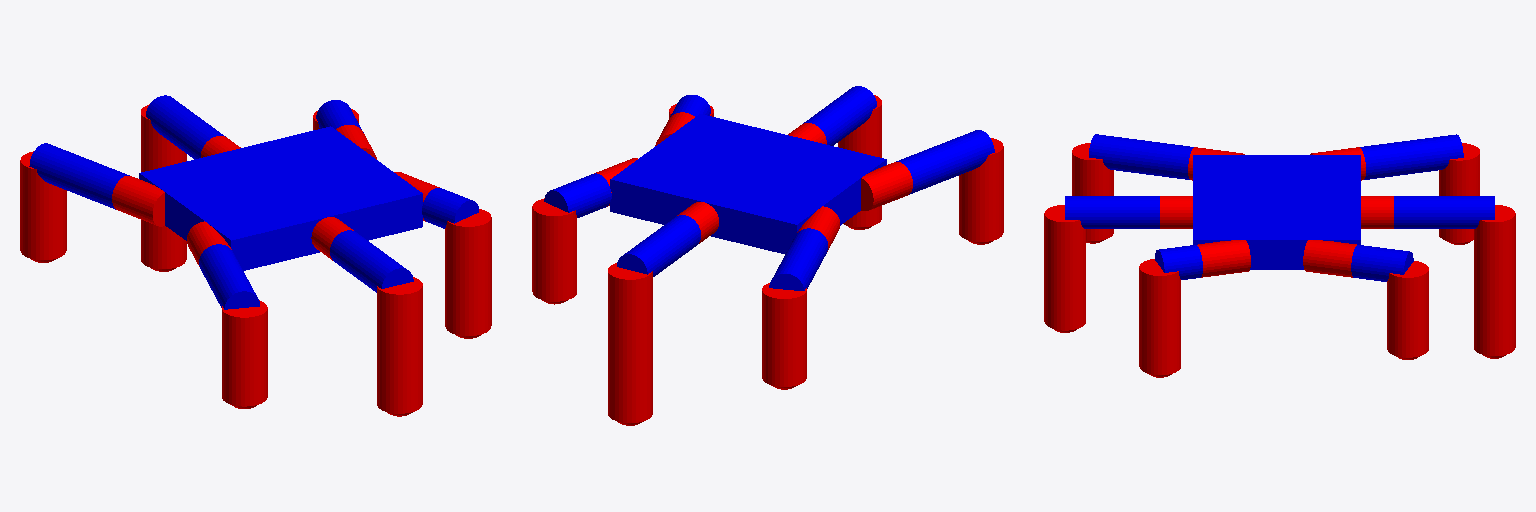
--- Facts derived from the render (not from the file) ---
The picture shows the robot from 3 angles, left to right: view 1: azimuth 30°, elevation 25°; view 2: azimuth 150°, elevation 25°; view 3: azimuth 270°, elevation 25°; orthographic projection.
Robot: pexod — 19 links, 18 joints (18 revolute); root link base_link; default pose: every joint at zero.
Links seen in each view (by area): view 1: base_link, leg_4_3, leg_3_3, leg_5_3, leg_0_3, leg_1_3, leg_0_2, leg_4_2, leg_1_2, leg_5_2, leg_0_1, leg_3_2 (+3 smaller); view 2: base_link, leg_1_3, leg_0_3, leg_2_3, leg_5_3, leg_5_2, leg_1_2, leg_0_2, leg_4_2, leg_2_2, leg_4_3, leg_5_1 (+3 smaller); view 3: base_link, leg_1_3, leg_4_3, leg_3_3, leg_2_3, leg_5_2, leg_1_2, leg_0_2, leg_4_2, leg_0_3, leg_5_3, leg_2_2 (+5 smaller).
Boxes of the visible links, <box> form: base_link: <box>139,126,422,270</box>; leg_4_3: <box>377,277,422,416</box>; leg_3_3: <box>445,209,491,338</box>; leg_5_3: <box>222,300,267,408</box>; leg_0_3: <box>20,151,66,262</box>; leg_1_3: <box>141,104,186,271</box>; leg_0_2: <box>29,143,129,209</box>; leg_4_2: <box>330,230,413,292</box>; leg_1_2: <box>146,95,225,159</box>; leg_5_2: <box>199,244,259,309</box>; leg_0_1: <box>112,176,164,226</box>; leg_3_2: <box>422,188,478,228</box>; base_link: <box>610,114,886,253</box>; leg_1_3: <box>608,263,652,425</box>; leg_0_3: <box>762,283,806,389</box>; leg_2_3: <box>532,198,576,304</box>; leg_5_3: <box>959,138,1003,244</box>; leg_5_2: <box>896,130,994,194</box>; leg_1_2: <box>617,215,700,276</box>; leg_0_2: <box>769,228,827,290</box>; leg_4_2: <box>803,86,876,145</box>; leg_2_2: <box>544,173,611,217</box>; leg_4_3: <box>838,95,881,229</box>; leg_5_1: <box>861,162,912,210</box>; base_link: <box>1193,155,1360,269</box>; leg_1_3: <box>1474,205,1515,358</box>; leg_4_3: <box>1044,205,1085,332</box>; leg_3_3: <box>1139,259,1180,377</box>; leg_2_3: <box>1387,261,1428,359</box>; leg_5_2: <box>1089,134,1193,179</box>; leg_1_2: <box>1394,196,1494,228</box>; leg_0_2: <box>1360,134,1463,179</box>; leg_4_2: <box>1065,196,1159,228</box>; leg_0_3: <box>1439,143,1479,244</box>; leg_5_3: <box>1072,143,1113,243</box>; leg_2_2: <box>1351,245,1413,281</box>.
Size in the robot's own frame: 0.3813 by 0.5618 by 0.2089 metres.
Geometry: primitives only (box / cylinder / sphere), no mesh files.

The robot description file, URDF, robot "pexod":
<?xml version="1.0" ?>
<!-- =================================================================================== -->
<!-- |    This document was autogenerated by xacro from pexod.xacro                    | -->
<!-- |    EDITING THIS FILE BY HAND IS NOT RECOMMENDED                                 | -->
<!-- =================================================================================== -->
<robot name="pexod" xmlns:xacro="http://www.ros.org/wiki/xacro">
  <!-- <xacro:include filename="$(find pexod_description)/urdf/pexod_control.xacro" /> -->
  <!-- MATERIALS -->
  <material name="Blue">
    <color rgba="0 0 1 1"/>
  </material>
  <material name="Red">
    <color rgba="1 0 0 1"/>
  </material>
  <material name="Green">
    <color rgba="0 1 0 1"/>
  </material>
  <material name="Yellow">
    <color rgba="1 1 0 1"/>
  </material>
  <material name="LightGrey">
    <color rgba="0.6 0.6 0.6 1.0"/>
  </material>
  <!-- END OF MATERIALS -->
  <!-- XACRO MACROS FOR VISUALS AND COLLISIONS -->
  <!-- END OF XACRO MACROS -->
  <!-- TORSO -->
  <link name="base_link">
    <visual>
      <origin rpy="0 0 0" xyz="0 0 0"/>
      <geometry>
        <box size="0.24 0.2 0.04"/>
      </geometry>
      <material name="Blue"/>
    </visual>
    <collision>
      <origin rpy="0 0 0" xyz="0 0 0"/>
      <geometry>
        <box size="0.24 0.2 0.04"/>
      </geometry>
    </collision>
    <inertial>
      <!-- CENTER OF MASS -->
      <origin rpy="0 0 0" xyz="0 0 0"/>
      <mass value="1.031"/>
      <!-- box inertia: 1/12*m(y^2+z^2), ... -->
      <inertia ixx="0.00357413333333" ixy="0" ixz="0" iyy="0.00508626666667" iyz="0" izz="0.00838546666667"/>
    </inertial>
  </link>
  <!-- XACRO MACRO FOR LEGS LINKS/JOINTS -->
  <!-- END OF LEG LINKS/JOINTS -->
  <joint name="body_leg_2" type="revolute">
    <parent link="base_link"/>
    <child link="leg_2_1"/>
    <limit effort="30.0" lower="-1.57079632679" upper="1.57079632679" velocity="7.0"/>
    <origin rpy="0 0 -0.3" xyz="0.11 0.04 0"/>
    <!-- <xacro:if value="${index == 5 or index == 4 or index == 3}">
                <axis xyz="0 0 1"/>
            </xacro:if>
            <xacro:if value="${index == 2 or index == 1 or index == 0}"> -->
    <axis xyz="0 0 1"/>
    <!-- </xacro:if> -->
    <dynamics damping="0.0"/>
  </joint>
  <link name="leg_2_1">
    <visual>
      <origin rpy="1.57079632679 0 0" xyz="0.01 0.03 0"/>
      <geometry>
        <cylinder length="0.06" radius="0.02"/>
      </geometry>
      <material name="Red"/>
    </visual>
    <collision>
      <origin rpy="1.57079632679 0 0" xyz="0.01 0.03 0"/>
      <geometry>
        <box size="0.02 0.02 0.06"/>
      </geometry>
    </collision>
    <inertial>
      <!-- CENTER OF MASS -->
      <origin rpy="1.57079632679 0 0" xyz="0.01 0.03 0"/>
      <mass value="0.02"/>
      <!-- box inertia: 1/12*m(y^2+z^2), ... -->
      <inertia ixx="6.66666666667e-06" ixy="0" ixz="0" iyy="6.66666666667e-06" iyz="0" izz="1.33333333333e-06"/>
    </inertial>
  </link>
  <joint name="leg_2_1_2" type="revolute">
    <parent link="leg_2_1"/>
    <child link="leg_2_2"/>
    <limit effort="30.0" lower="-0.78539816339" upper="0.78539816339" velocity="7.0"/>
    <origin rpy="0 0 0" xyz="0 0.06 0"/>
    <axis xyz="1 0 0"/>
    <dynamics damping="0.0"/>
  </joint>
  <link name="leg_2_2">
    <visual>
      <origin rpy="1.57079632679 0 0" xyz="0.01 0.0327377327444 0"/>
      <geometry>
        <cylinder length="0.0654754654888" radius="0.02"/>
      </geometry>
      <material name="Blue"/>
    </visual>
    <collision>
      <origin rpy="1.57079632679 0 0" xyz="0.01 0.0327377327444 0"/>
      <geometry>
        <box size="0.02 0.02 0.0654754654888"/>
      </geometry>
    </collision>
    <inertial>
      <!-- CENTER OF MASS -->
      <origin rpy="1.57079632679 0 0" xyz="0.01 0.0327377327444 0"/>
      <mass value="0.184"/>
      <!-- box inertia: 1/12*m(y^2+z^2), ... -->
      <inertia ixx="7.18678942416e-05" ixy="0" ixz="0" iyy="7.18678942416e-05" iyz="0" izz="1.22666666667e-05"/>
    </inertial>
  </link>
  <joint name="leg_2_2_3" type="revolute">
    <parent link="leg_2_2"/>
    <child link="leg_2_3"/>
    <limit effort="30.0" lower="-0.78539816339" upper="0.78539816339" velocity="7.0"/>
    <origin rpy="-1.57079632679 0 0" xyz="0 0.0654754654888 0"/>
    <axis xyz="-1 0 0"/>
    <dynamics damping="0.0"/>
  </joint>
  <link name="leg_2_3">
    <visual>
      <origin rpy="1.57079632679 0 0" xyz="0.0125 0.0525763449255 0"/>
      <geometry>
        <cylinder length="0.105152689851" radius="0.025"/>
      </geometry>
      <material name="Red"/>
    </visual>
    <visual>
      <origin rpy="1.57079632679 0 0" xyz="0.0125 0.092652689851 0"/>
      <geometry>
        <sphere radius="0.025"/>
      </geometry>
      <material name="Red"/>
    </visual>
    <collision>
      <origin rpy="1.57079632679 0 0" xyz="0.0125 0.0525763449255 0"/>
      <geometry>
        <box size="0.025 0.025 0.105152689851"/>
      </geometry>
    </collision>
    <collision>
      <origin rpy="1.57079632679 0 0" xyz="0.0125 0.092652689851 0"/>
      <geometry>
        <sphere radius="0.025"/>
      </geometry>
      <material name="Red"/>
    </collision>
    <inertial>
      <!-- CENTER OF MASS -->
      <origin rpy="1.57079632679 0 0" xyz="0.0125 0.0525763449255 0"/>
      <mass value="0.04"/>
      <!-- box inertia: 1/12*m(y^2+z^2), ... -->
      <inertia ixx="3.8940293943e-05" ixy="0" ixz="0" iyy="3.8940293943e-05" iyz="0" izz="4.16666666667e-06"/>
    </inertial>
  </link>
  <joint name="body_leg_3" type="revolute">
    <parent link="base_link"/>
    <child link="leg_3_1"/>
    <limit effort="30.0" lower="-1.57079632679" upper="1.57079632679" velocity="7.0"/>
    <origin rpy="0 0 0.3" xyz="0.11 -0.04 0"/>
    <!-- <xacro:if value="${index == 5 or index == 4 or index == 3}">
                <axis xyz="0 0 1"/>
            </xacro:if>
            <xacro:if value="${index == 2 or index == 1 or index == 0}"> -->
    <axis xyz="0 0 1"/>
    <!-- </xacro:if> -->
    <dynamics damping="0.0"/>
  </joint>
  <link name="leg_3_1">
    <visual>
      <origin rpy="1.57079632679 0 0" xyz="0.01 -0.03 0"/>
      <geometry>
        <cylinder length="0.06" radius="0.02"/>
      </geometry>
      <material name="Red"/>
    </visual>
    <collision>
      <origin rpy="1.57079632679 0 0" xyz="0.01 -0.03 0"/>
      <geometry>
        <box size="0.02 0.02 0.06"/>
      </geometry>
    </collision>
    <inertial>
      <!-- CENTER OF MASS -->
      <origin rpy="1.57079632679 0 0" xyz="0.01 -0.03 0"/>
      <mass value="0.02"/>
      <!-- box inertia: 1/12*m(y^2+z^2), ... -->
      <inertia ixx="6.66666666667e-06" ixy="0" ixz="0" iyy="6.66666666667e-06" iyz="0" izz="1.33333333333e-06"/>
    </inertial>
  </link>
  <joint name="leg_3_1_2" type="revolute">
    <parent link="leg_3_1"/>
    <child link="leg_3_2"/>
    <limit effort="30.0" lower="-0.78539816339" upper="0.78539816339" velocity="7.0"/>
    <origin rpy="0 0 0" xyz="0 -0.06 0"/>
    <axis xyz="-1 0 0"/>
    <dynamics damping="0.0"/>
  </joint>
  <link name="leg_3_2">
    <visual>
      <origin rpy="1.57079632679 0 0" xyz="0.01 -0.0239038808822 0"/>
      <geometry>
        <cylinder length="0.0478077617643" radius="0.02"/>
      </geometry>
      <material name="Blue"/>
    </visual>
    <collision>
      <origin rpy="1.57079632679 0 0" xyz="0.01 -0.0239038808822 0"/>
      <geometry>
        <box size="0.02 0.02 0.0478077617643"/>
      </geometry>
    </collision>
    <inertial>
      <!-- CENTER OF MASS -->
      <origin rpy="1.57079632679 0 0" xyz="0.01 -0.0239038808822 0"/>
      <mass value="0.184"/>
      <!-- box inertia: 1/12*m(y^2+z^2), ... -->
      <inertia ixx="4.1178925302e-05" ixy="0" ixz="0" iyy="4.1178925302e-05" iyz="0" izz="1.22666666667e-05"/>
    </inertial>
  </link>
  <joint name="leg_3_2_3" type="revolute">
    <parent link="leg_3_2"/>
    <child link="leg_3_3"/>
    <limit effort="30.0" lower="-0.78539816339" upper="0.78539816339" velocity="7.0"/>
    <origin rpy="1.57079632679 0 0" xyz="0 -0.0478077617643 0"/>
    <axis xyz="1 0 0"/>
    <dynamics damping="0.0"/>
  </joint>
  <link name="leg_3_3">
    <visual>
      <origin rpy="1.57079632679 0 0" xyz="0.0125 -0.0653417017405 0"/>
      <geometry>
        <cylinder length="0.130683403481" radius="0.025"/>
      </geometry>
      <material name="Red"/>
    </visual>
    <visual>
      <origin rpy="1.57079632679 0 0" xyz="0.0125 -0.118183403481 0"/>
      <geometry>
        <sphere radius="0.025"/>
      </geometry>
      <material name="Red"/>
    </visual>
    <collision>
      <origin rpy="1.57079632679 0 0" xyz="0.0125 -0.0653417017405 0"/>
      <geometry>
        <box size="0.025 0.025 0.130683403481"/>
      </geometry>
    </collision>
    <collision>
      <origin rpy="1.57079632679 0 0" xyz="0.0125 -0.118183403481 0"/>
      <geometry>
        <sphere radius="0.025"/>
      </geometry>
      <material name="Red"/>
    </collision>
    <inertial>
      <!-- CENTER OF MASS -->
      <origin rpy="1.57079632679 0 0" xyz="0.0125 -0.0653417017405 0"/>
      <mass value="0.04"/>
      <!-- box inertia: 1/12*m(y^2+z^2), ... -->
      <inertia ixx="5.90105064846e-05" ixy="0" ixz="0" iyy="5.90105064846e-05" iyz="0" izz="4.16666666667e-06"/>
    </inertial>
  </link>
  <joint name="body_leg_0" type="revolute">
    <parent link="base_link"/>
    <child link="leg_0_1"/>
    <limit effort="30.0" lower="-1.57079632679" upper="1.57079632679" velocity="7.0"/>
    <origin rpy="0 0 0.3" xyz="-0.13 0.04 0"/>
    <!-- <xacro:if value="${index == 5 or index == 4 or index == 3}">
                <axis xyz="0 0 1"/>
            </xacro:if>
            <xacro:if value="${index == 2 or index == 1 or index == 0}"> -->
    <axis xyz="0 0 1"/>
    <!-- </xacro:if> -->
    <dynamics damping="0.0"/>
  </joint>
  <link name="leg_0_1">
    <visual>
      <origin rpy="1.57079632679 0 0" xyz="0.01 0.03 0"/>
      <geometry>
        <cylinder length="0.06" radius="0.02"/>
      </geometry>
      <material name="Red"/>
    </visual>
    <collision>
      <origin rpy="1.57079632679 0 0" xyz="0.01 0.03 0"/>
      <geometry>
        <box size="0.02 0.02 0.06"/>
      </geometry>
    </collision>
    <inertial>
      <!-- CENTER OF MASS -->
      <origin rpy="1.57079632679 0 0" xyz="0.01 0.03 0"/>
      <mass value="0.02"/>
      <!-- box inertia: 1/12*m(y^2+z^2), ... -->
      <inertia ixx="6.66666666667e-06" ixy="0" ixz="0" iyy="6.66666666667e-06" iyz="0" izz="1.33333333333e-06"/>
    </inertial>
  </link>
  <joint name="leg_0_1_2" type="revolute">
    <parent link="leg_0_1"/>
    <child link="leg_0_2"/>
    <limit effort="30.0" lower="-0.78539816339" upper="0.78539816339" velocity="7.0"/>
    <origin rpy="0 0 0" xyz="0 0.06 0"/>
    <axis xyz="1 0 0"/>
    <dynamics damping="0.0"/>
  </joint>
  <link name="leg_0_2">
    <visual>
      <origin rpy="1.57079632679 0 0" xyz="0.01 0.060954150686 0"/>
      <geometry>
        <cylinder length="0.121908301372" radius="0.02"/>
      </geometry>
      <material name="Blue"/>
    </visual>
    <collision>
      <origin rpy="1.57079632679 0 0" xyz="0.01 0.060954150686 0"/>
      <geometry>
        <box size="0.02 0.02 0.121908301372"/>
      </geometry>
    </collision>
    <inertial>
      <!-- CENTER OF MASS -->
      <origin rpy="1.57079632679 0 0" xyz="0.01 0.060954150686 0"/>
      <mass value="0.184"/>
      <!-- box inertia: 1/12*m(y^2+z^2), ... -->
      <inertia ixx="0.000234011720466" ixy="0" ixz="0" iyy="0.000234011720466" iyz="0" izz="1.22666666667e-05"/>
    </inertial>
  </link>
  <joint name="leg_0_2_3" type="revolute">
    <parent link="leg_0_2"/>
    <child link="leg_0_3"/>
    <limit effort="30.0" lower="-0.78539816339" upper="0.78539816339" velocity="7.0"/>
    <origin rpy="-1.57079632679 0 0" xyz="0 0.121908301372 0"/>
    <axis xyz="-1 0 0"/>
    <dynamics damping="0.0"/>
  </joint>
  <link name="leg_0_3">
    <visual>
      <origin rpy="1.57079632679 0 0" xyz="0.0125 0.0540612211445 0"/>
      <geometry>
        <cylinder length="0.108122442289" radius="0.025"/>
      </geometry>
      <material name="Red"/>
    </visual>
    <visual>
      <origin rpy="1.57079632679 0 0" xyz="0.0125 0.095622442289 0"/>
      <geometry>
        <sphere radius="0.025"/>
      </geometry>
      <material name="Red"/>
    </visual>
    <collision>
      <origin rpy="1.57079632679 0 0" xyz="0.0125 0.0540612211445 0"/>
      <geometry>
        <box size="0.025 0.025 0.108122442289"/>
      </geometry>
    </collision>
    <collision>
      <origin rpy="1.57079632679 0 0" xyz="0.0125 0.095622442289 0"/>
      <geometry>
        <sphere radius="0.025"/>
      </geometry>
      <material name="Red"/>
    </collision>
    <inertial>
      <!-- CENTER OF MASS -->
      <origin rpy="1.57079632679 0 0" xyz="0.0125 0.0540612211445 0"/>
      <mass value="0.04"/>
      <!-- box inertia: 1/12*m(y^2+z^2), ... -->
      <inertia ixx="4.10515417551e-05" ixy="0" ixz="0" iyy="4.10515417551e-05" iyz="0" izz="4.16666666667e-06"/>
    </inertial>
  </link>
  <joint name="body_leg_5" type="revolute">
    <parent link="base_link"/>
    <child link="leg_5_1"/>
    <limit effort="30.0" lower="-1.57079632679" upper="1.57079632679" velocity="7.0"/>
    <origin rpy="0 0 -0.3" xyz="-0.13 -0.04 0"/>
    <!-- <xacro:if value="${index == 5 or index == 4 or index == 3}">
                <axis xyz="0 0 1"/>
            </xacro:if>
            <xacro:if value="${index == 2 or index == 1 or index == 0}"> -->
    <axis xyz="0 0 1"/>
    <!-- </xacro:if> -->
    <dynamics damping="0.0"/>
  </joint>
  <link name="leg_5_1">
    <visual>
      <origin rpy="1.57079632679 0 0" xyz="0.01 -0.03 0"/>
      <geometry>
        <cylinder length="0.06" radius="0.02"/>
      </geometry>
      <material name="Red"/>
    </visual>
    <collision>
      <origin rpy="1.57079632679 0 0" xyz="0.01 -0.03 0"/>
      <geometry>
        <box size="0.02 0.02 0.06"/>
      </geometry>
    </collision>
    <inertial>
      <!-- CENTER OF MASS -->
      <origin rpy="1.57079632679 0 0" xyz="0.01 -0.03 0"/>
      <mass value="0.02"/>
      <!-- box inertia: 1/12*m(y^2+z^2), ... -->
      <inertia ixx="6.66666666667e-06" ixy="0" ixz="0" iyy="6.66666666667e-06" iyz="0" izz="1.33333333333e-06"/>
    </inertial>
  </link>
  <joint name="leg_5_1_2" type="revolute">
    <parent link="leg_5_1"/>
    <child link="leg_5_2"/>
    <limit effort="30.0" lower="-0.78539816339" upper="0.78539816339" velocity="7.0"/>
    <origin rpy="0 0 0" xyz="0 -0.06 0"/>
    <axis xyz="-1 0 0"/>
    <dynamics damping="0.0"/>
  </joint>
  <link name="leg_5_2">
    <visual>
      <origin rpy="1.57079632679 0 0" xyz="0.01 -0.062017408942 0"/>
      <geometry>
        <cylinder length="0.124034817884" radius="0.02"/>
      </geometry>
      <material name="Blue"/>
    </visual>
    <collision>
      <origin rpy="1.57079632679 0 0" xyz="0.01 -0.062017408942 0"/>
      <geometry>
        <box size="0.02 0.02 0.124034817884"/>
      </geometry>
    </collision>
    <inertial>
      <!-- CENTER OF MASS -->
      <origin rpy="1.57079632679 0 0" xyz="0.01 -0.062017408942 0"/>
      <mass value="0.184"/>
      <!-- box inertia: 1/12*m(y^2+z^2), ... -->
      <inertia ixx="0.000242031086062" ixy="0" ixz="0" iyy="0.000242031086062" iyz="0" izz="1.22666666667e-05"/>
    </inertial>
  </link>
  <joint name="leg_5_2_3" type="revolute">
    <parent link="leg_5_2"/>
    <child link="leg_5_3"/>
    <limit effort="30.0" lower="-0.78539816339" upper="0.78539816339" velocity="7.0"/>
    <origin rpy="1.57079632679 0 0" xyz="0 -0.124034817884 0"/>
    <axis xyz="1 0 0"/>
    <dynamics damping="0.0"/>
  </joint>
  <link name="leg_5_3">
    <visual>
      <origin rpy="1.57079632679 0 0" xyz="0.0125 -0.053153515847 0"/>
      <geometry>
        <cylinder length="0.106307031694" radius="0.025"/>
      </geometry>
      <material name="Red"/>
    </visual>
    <visual>
      <origin rpy="1.57079632679 0 0" xyz="0.0125 -0.093807031694 0"/>
      <geometry>
        <sphere radius="0.025"/>
      </geometry>
      <material name="Red"/>
    </visual>
    <collision>
      <origin rpy="1.57079632679 0 0" xyz="0.0125 -0.053153515847 0"/>
      <geometry>
        <box size="0.025 0.025 0.106307031694"/>
      </geometry>
    </collision>
    <collision>
      <origin rpy="1.57079632679 0 0" xyz="0.0125 -0.093807031694 0"/>
      <geometry>
        <sphere radius="0.025"/>
      </geometry>
      <material name="Red"/>
    </collision>
    <inertial>
      <!-- CENTER OF MASS -->
      <origin rpy="1.57079632679 0 0" xyz="0.0125 -0.053153515847 0"/>
      <mass value="0.04"/>
      <!-- box inertia: 1/12*m(y^2+z^2), ... -->
      <inertia ixx="3.97539499586e-05" ixy="0" ixz="0" iyy="3.97539499586e-05" iyz="0" izz="4.16666666667e-06"/>
    </inertial>
  </link>
  <joint name="body_leg_1" type="revolute">
    <parent link="base_link"/>
    <child link="leg_1_1"/>
    <limit effort="30.0" lower="-1.57079632679" upper="1.57079632679" velocity="7.0"/>
    <origin rpy="0 0 0" xyz="-0.01 0.08 0"/>
    <!-- <xacro:if value="${index == 5 or index == 4 or index == 3}">
                <axis xyz="0 0 1"/>
            </xacro:if>
            <xacro:if value="${index == 2 or index == 1 or index == 0}"> -->
    <axis xyz="0 0 1"/>
    <!-- </xacro:if> -->
    <dynamics damping="0.0"/>
  </joint>
  <link name="leg_1_1">
    <visual>
      <origin rpy="1.57079632679 0 0" xyz="0.01 0.03 0"/>
      <geometry>
        <cylinder length="0.06" radius="0.02"/>
      </geometry>
      <material name="Red"/>
    </visual>
    <collision>
      <origin rpy="1.57079632679 0 0" xyz="0.01 0.03 0"/>
      <geometry>
        <box size="0.02 0.02 0.06"/>
      </geometry>
    </collision>
    <inertial>
      <!-- CENTER OF MASS -->
      <origin rpy="1.57079632679 0 0" xyz="0.01 0.03 0"/>
      <mass value="0.02"/>
      <!-- box inertia: 1/12*m(y^2+z^2), ... -->
      <inertia ixx="6.66666666667e-06" ixy="0" ixz="0" iyy="6.66666666667e-06" iyz="0" izz="1.33333333333e-06"/>
    </inertial>
  </link>
  <joint name="leg_1_1_2" type="revolute">
    <parent link="leg_1_1"/>
    <child link="leg_1_2"/>
    <limit effort="30.0" lower="-0.78539816339" upper="0.78539816339" velocity="7.0"/>
    <origin rpy="0 0 0" xyz="0 0.06 0"/>
    <axis xyz="1 0 0"/>
    <dynamics damping="0.0"/>
  </joint>
  <link name="leg_1_2">
    <visual>
      <origin rpy="1.57079632679 0 0" xyz="0.01 0.059688055021 0"/>
      <geometry>
        <cylinder length="0.119376110042" radius="0.02"/>
      </geometry>
      <material name="Blue"/>
    </visual>
    <collision>
      <origin rpy="1.57079632679 0 0" xyz="0.01 0.059688055021 0"/>
      <geometry>
        <box size="0.02 0.02 0.119376110042"/>
      </geometry>
    </collision>
    <inertial>
      <!-- CENTER OF MASS -->
      <origin rpy="1.57079632679 0 0" xyz="0.01 0.059688055021 0"/>
      <mass value="0.184"/>
      <!-- box inertia: 1/12*m(y^2+z^2), ... -->
      <inertia ixx="0.000224643386614" ixy="0" ixz="0" iyy="0.000224643386614" iyz="0" izz="1.22666666667e-05"/>
    </inertial>
  </link>
  <joint name="leg_1_2_3" type="revolute">
    <parent link="leg_1_2"/>
    <child link="leg_1_3"/>
    <limit effort="30.0" lower="-0.78539816339" upper="0.78539816339" velocity="7.0"/>
    <origin rpy="-1.57079632679 0 0" xyz="0 0.119376110042 0"/>
    <axis xyz="-1 0 0"/>
    <dynamics damping="0.0"/>
  </joint>
  <link name="leg_1_3">
    <visual>
      <origin rpy="1.57079632679 0 0" xyz="0.0125 0.0881768480925 0"/>
      <geometry>
        <cylinder length="0.176353696185" radius="0.025"/>
      </geometry>
      <material name="Red"/>
    </visual>
    <visual>
      <origin rpy="1.57079632679 0 0" xyz="0.0125 0.163853696185 0"/>
      <geometry>
        <sphere radius="0.025"/>
      </geometry>
      <material name="Red"/>
    </visual>
    <collision>
      <origin rpy="1.57079632679 0 0" xyz="0.0125 0.0881768480925 0"/>
      <geometry>
        <box size="0.025 0.025 0.176353696185"/>
      </geometry>
    </collision>
    <collision>
      <origin rpy="1.57079632679 0 0" xyz="0.0125 0.163853696185 0"/>
      <geometry>
        <sphere radius="0.025"/>
      </geometry>
      <material name="Red"/>
    </collision>
    <inertial>
      <!-- CENTER OF MASS -->
      <origin rpy="1.57079632679 0 0" xyz="0.0125 0.0881768480925 0"/>
      <mass value="0.04"/>
      <!-- box inertia: 1/12*m(y^2+z^2), ... -->
      <inertia ixx="0.000105752087194" ixy="0" ixz="0" iyy="0.000105752087194" iyz="0" izz="4.16666666667e-06"/>
    </inertial>
  </link>
  <joint name="body_leg_4" type="revolute">
    <parent link="base_link"/>
    <child link="leg_4_1"/>
    <limit effort="30.0" lower="-1.57079632679" upper="1.57079632679" velocity="7.0"/>
    <origin rpy="0 0 0" xyz="-0.01 -0.08 0"/>
    <!-- <xacro:if value="${index == 5 or index == 4 or index == 3}">
                <axis xyz="0 0 1"/>
            </xacro:if>
            <xacro:if value="${index == 2 or index == 1 or index == 0}"> -->
    <axis xyz="0 0 1"/>
    <!-- </xacro:if> -->
    <dynamics damping="0.0"/>
  </joint>
  <link name="leg_4_1">
    <visual>
      <origin rpy="1.57079632679 0 0" xyz="0.01 -0.03 0"/>
      <geometry>
        <cylinder length="0.06" radius="0.02"/>
      </geometry>
      <material name="Red"/>
    </visual>
    <collision>
      <origin rpy="1.57079632679 0 0" xyz="0.01 -0.03 0"/>
      <geometry>
        <box size="0.02 0.02 0.06"/>
      </geometry>
    </collision>
    <inertial>
      <!-- CENTER OF MASS -->
      <origin rpy="1.57079632679 0 0" xyz="0.01 -0.03 0"/>
      <mass value="0.02"/>
      <!-- box inertia: 1/12*m(y^2+z^2), ... -->
      <inertia ixx="6.66666666667e-06" ixy="0" ixz="0" iyy="6.66666666667e-06" iyz="0" izz="1.33333333333e-06"/>
    </inertial>
  </link>
  <joint name="leg_4_1_2" type="revolute">
    <parent link="leg_4_1"/>
    <child link="leg_4_2"/>
    <limit effort="30.0" lower="-0.78539816339" upper="0.78539816339" velocity="7.0"/>
    <origin rpy="0 0 0" xyz="0 -0.06 0"/>
    <axis xyz="-1 0 0"/>
    <dynamics damping="0.0"/>
  </joint>
  <link name="leg_4_2">
    <visual>
      <origin rpy="1.57079632679 0 0" xyz="0.01 -0.056224944041 0"/>
      <geometry>
        <cylinder length="0.112449888082" radius="0.02"/>
      </geometry>
      <material name="Blue"/>
    </visual>
    <collision>
      <origin rpy="1.57079632679 0 0" xyz="0.01 -0.056224944041 0"/>
      <geometry>
        <box size="0.02 0.02 0.112449888082"/>
      </geometry>
    </collision>
    <inertial>
      <!-- CENTER OF MASS -->
      <origin rpy="1.57079632679 0 0" xyz="0.01 -0.056224944041 0"/>
      <mass value="0.184"/>
      <!-- box inertia: 1/12*m(y^2+z^2), ... -->
      <inertia ixx="0.000200022985721" ixy="0" ixz="0" iyy="0.000200022985721" iyz="0" izz="1.22666666667e-05"/>
    </inertial>
  </link>
  <joint name="leg_4_2_3" type="revolute">
    <parent link="leg_4_2"/>
    <child link="leg_4_3"/>
    <limit effort="30.0" lower="-0.78539816339" upper="0.78539816339" velocity="7.0"/>
    <origin rpy="1.57079632679 0 0" xyz="0 -0.112449888082 0"/>
    <axis xyz="1 0 0"/>
    <dynamics damping="0.0"/>
  </joint>
  <link name="leg_4_3">
    <visual>
      <origin rpy="1.57079632679 0 0" xyz="0.0125 -0.0712026502415 0"/>
      <geometry>
        <cylinder length="0.142405300483" radius="0.025"/>
      </geometry>
      <material name="Red"/>
    </visual>
    <visual>
      <origin rpy="1.57079632679 0 0" xyz="0.0125 -0.129905300483 0"/>
      <geometry>
        <sphere radius="0.025"/>
      </geometry>
      <material name="Red"/>
    </visual>
    <collision>
      <origin rpy="1.57079632679 0 0" xyz="0.0125 -0.0712026502415 0"/>
      <geometry>
        <box size="0.025 0.025 0.142405300483"/>
      </geometry>
    </collision>
    <collision>
      <origin rpy="1.57079632679 0 0" xyz="0.0125 -0.129905300483 0"/>
      <geometry>
        <sphere radius="0.025"/>
      </geometry>
      <material name="Red"/>
    </collision>
    <inertial>
      <!-- CENTER OF MASS -->
      <origin rpy="1.57079632679 0 0" xyz="0.0125 -0.0712026502415 0"/>
      <mass value="0.04"/>
      <!-- box inertia: 1/12*m(y^2+z^2), ... -->
      <inertia ixx="6.96808986855e-05" ixy="0" ixz="0" iyy="6.96808986855e-05" iyz="0" izz="4.16666666667e-06"/>
    </inertial>
  </link>
  <!-- END OF LEG LINKS/JOINTS -->
</robot>
